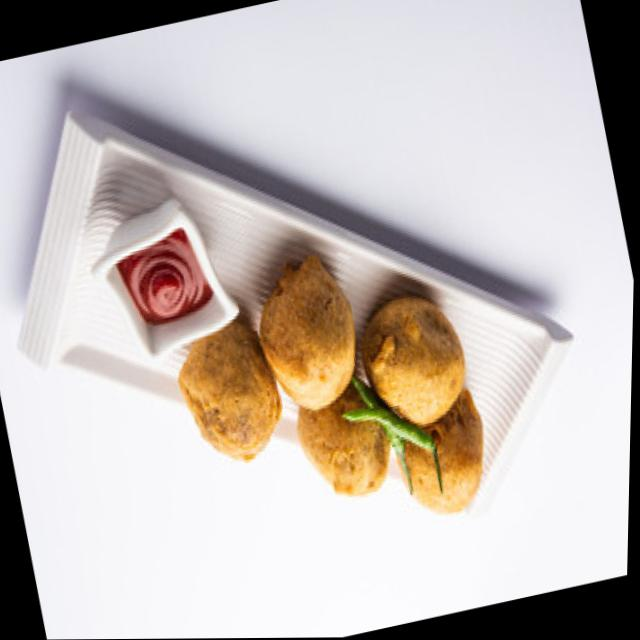BONDA: (177, 258, 482, 514)
SAUCE: (114, 203, 212, 326)
